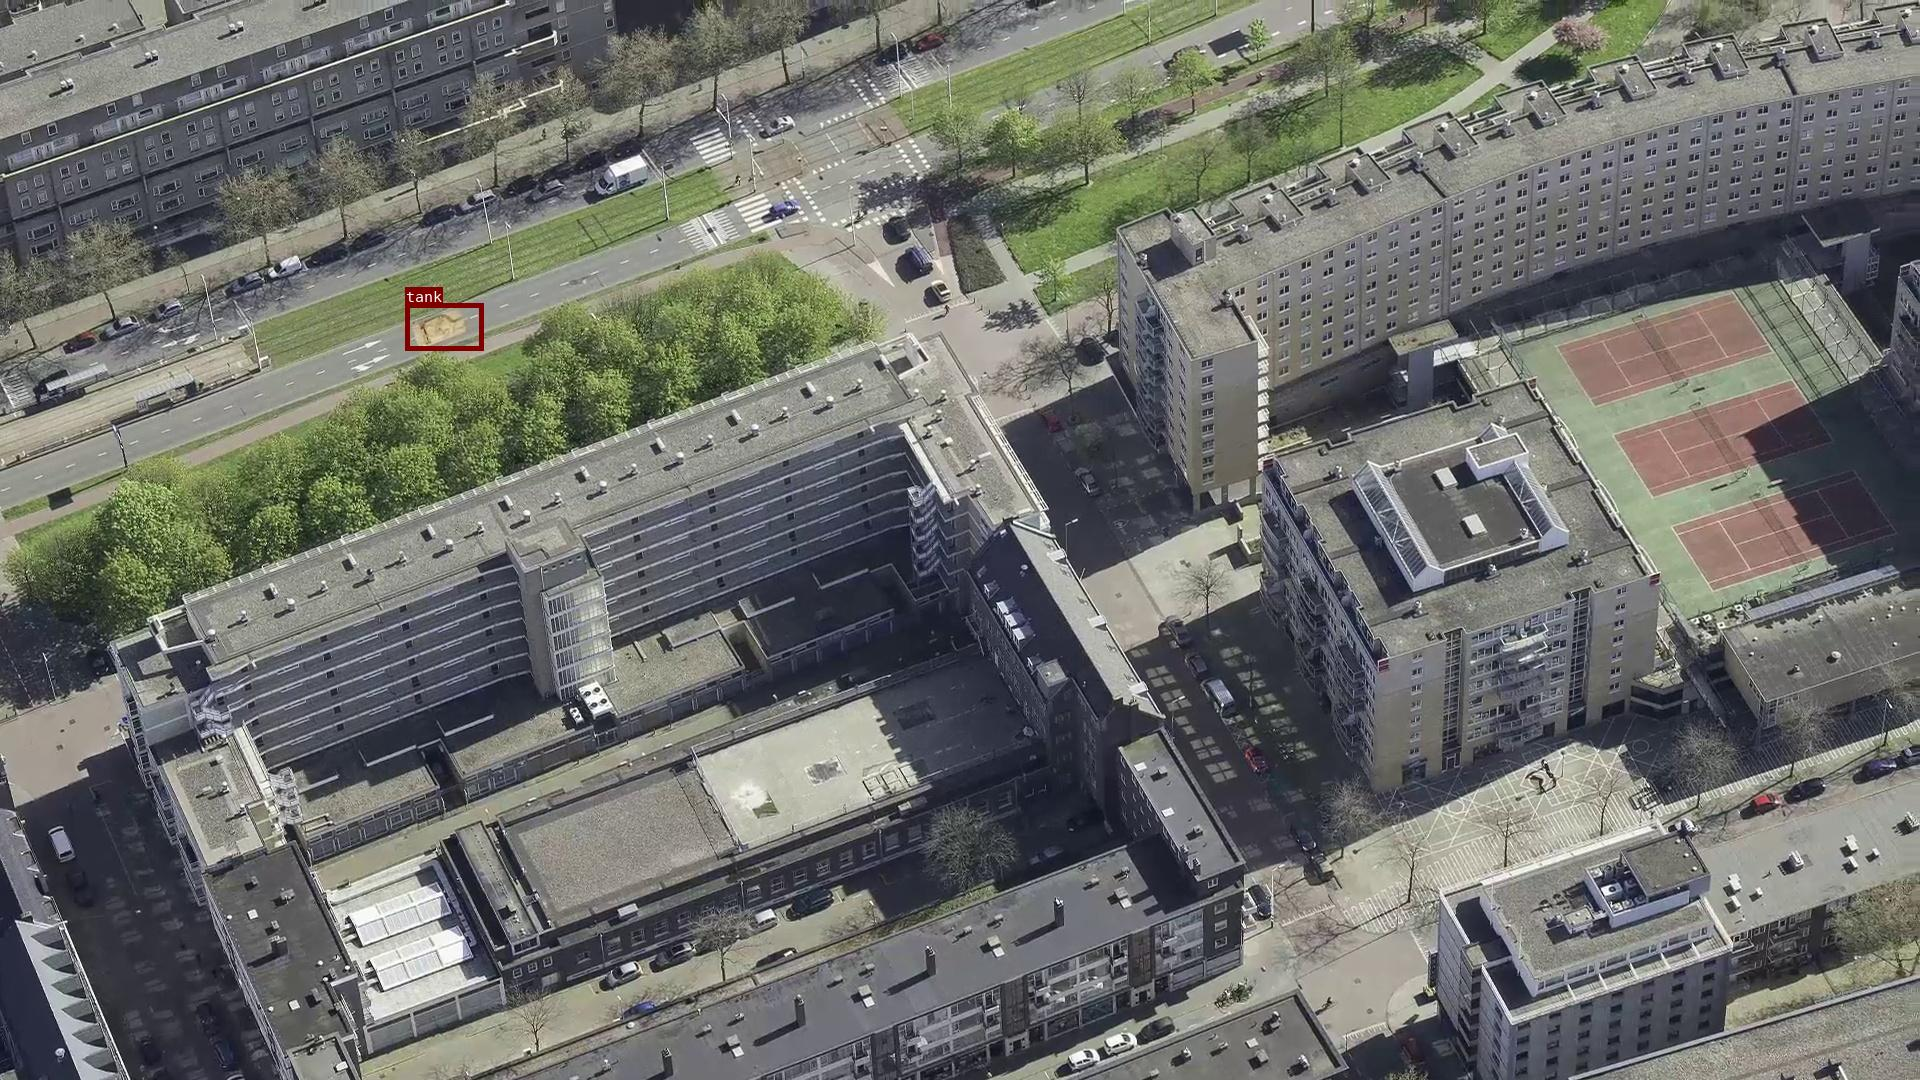tank: (405, 303, 483, 349)
